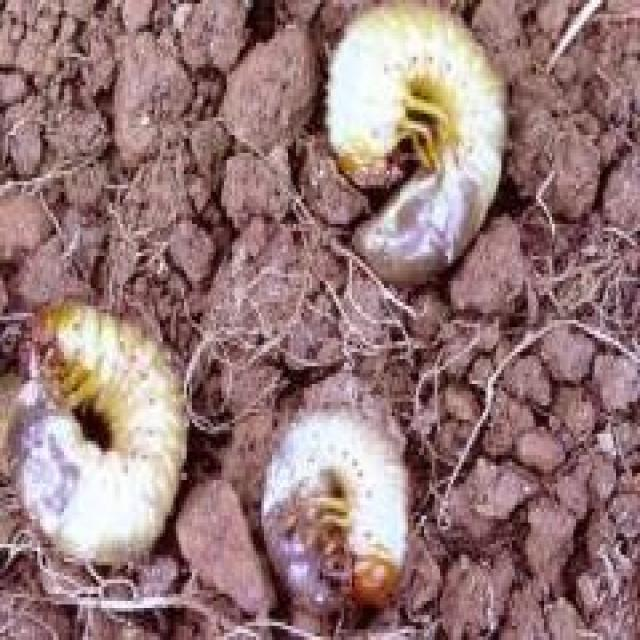grub: (317, 5, 528, 303), (19, 291, 203, 557), (256, 394, 418, 596)
